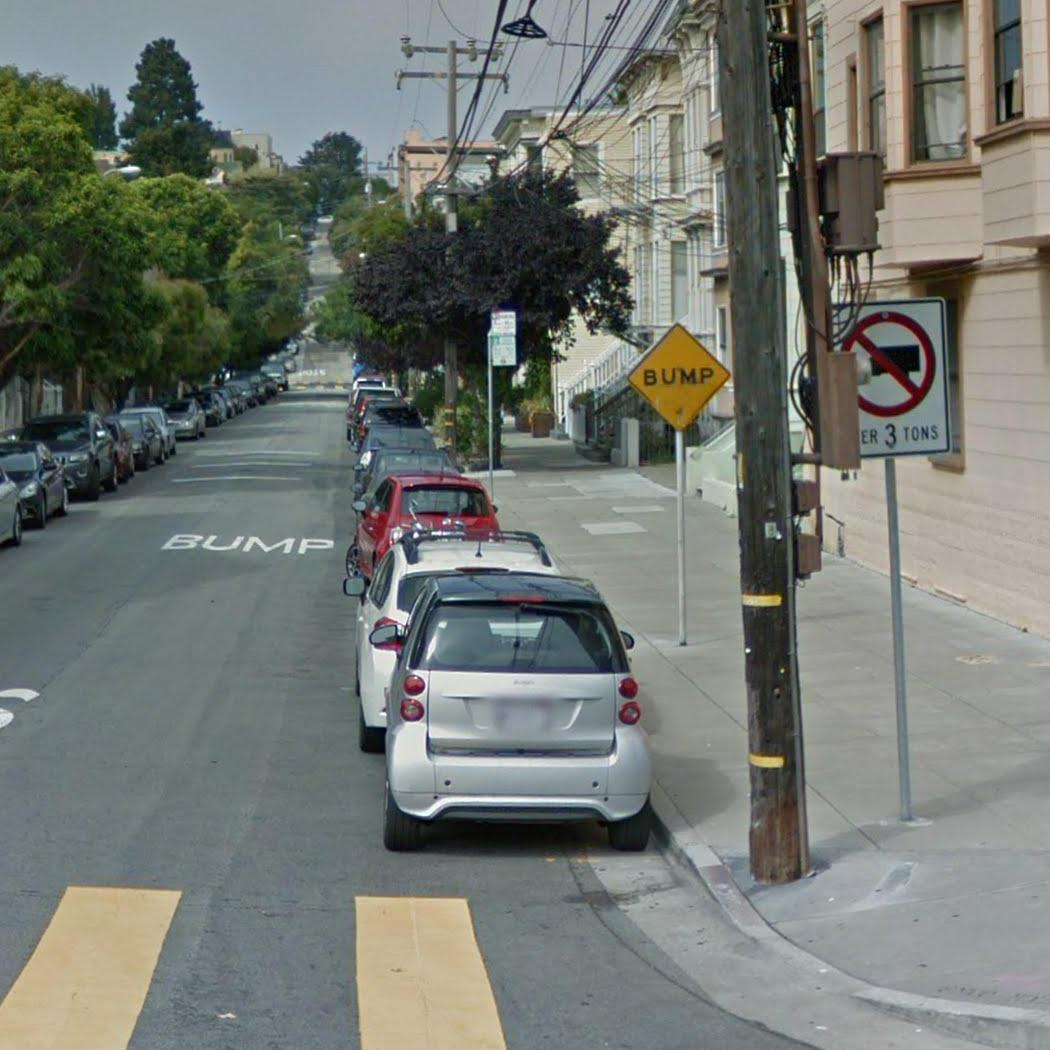2 Hour Parking: (489, 335, 518, 368)
No Parking: (489, 310, 517, 334)
